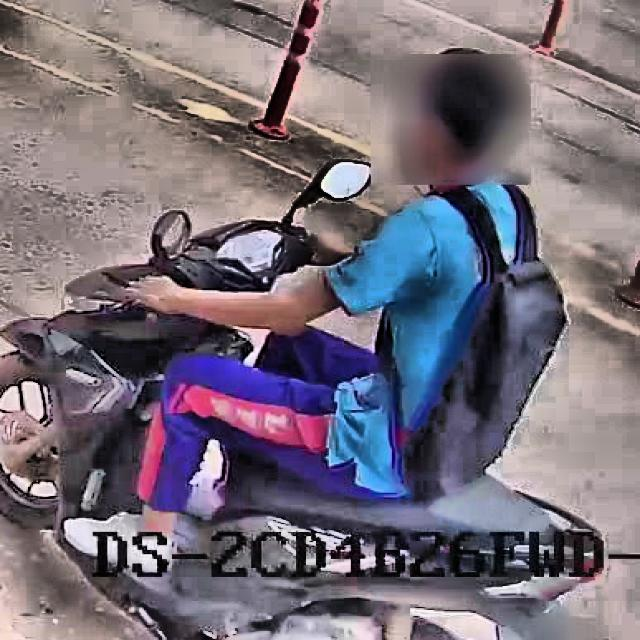motorcycle: (0, 158, 610, 637)
